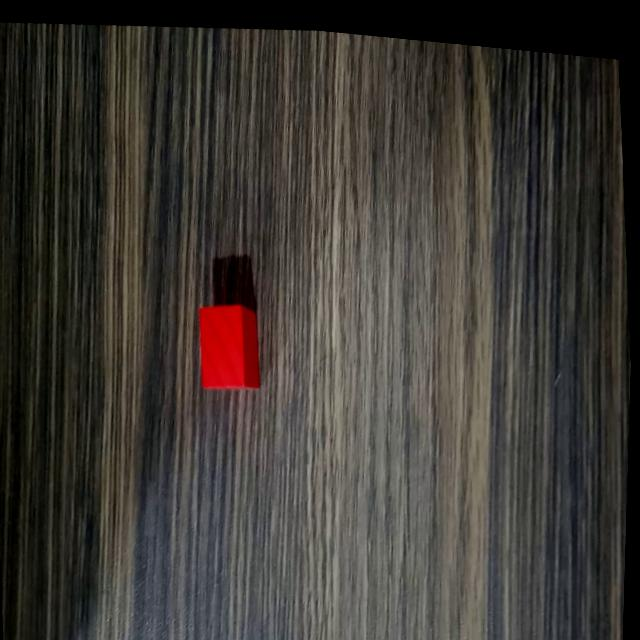cube: (194, 288, 268, 397)
